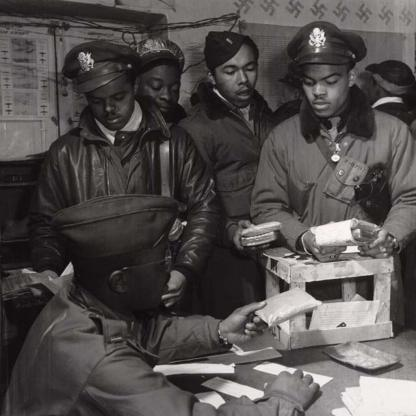face: (130, 238, 174, 310), (301, 62, 350, 119), (216, 52, 258, 109), (89, 79, 132, 131), (143, 65, 182, 116)
